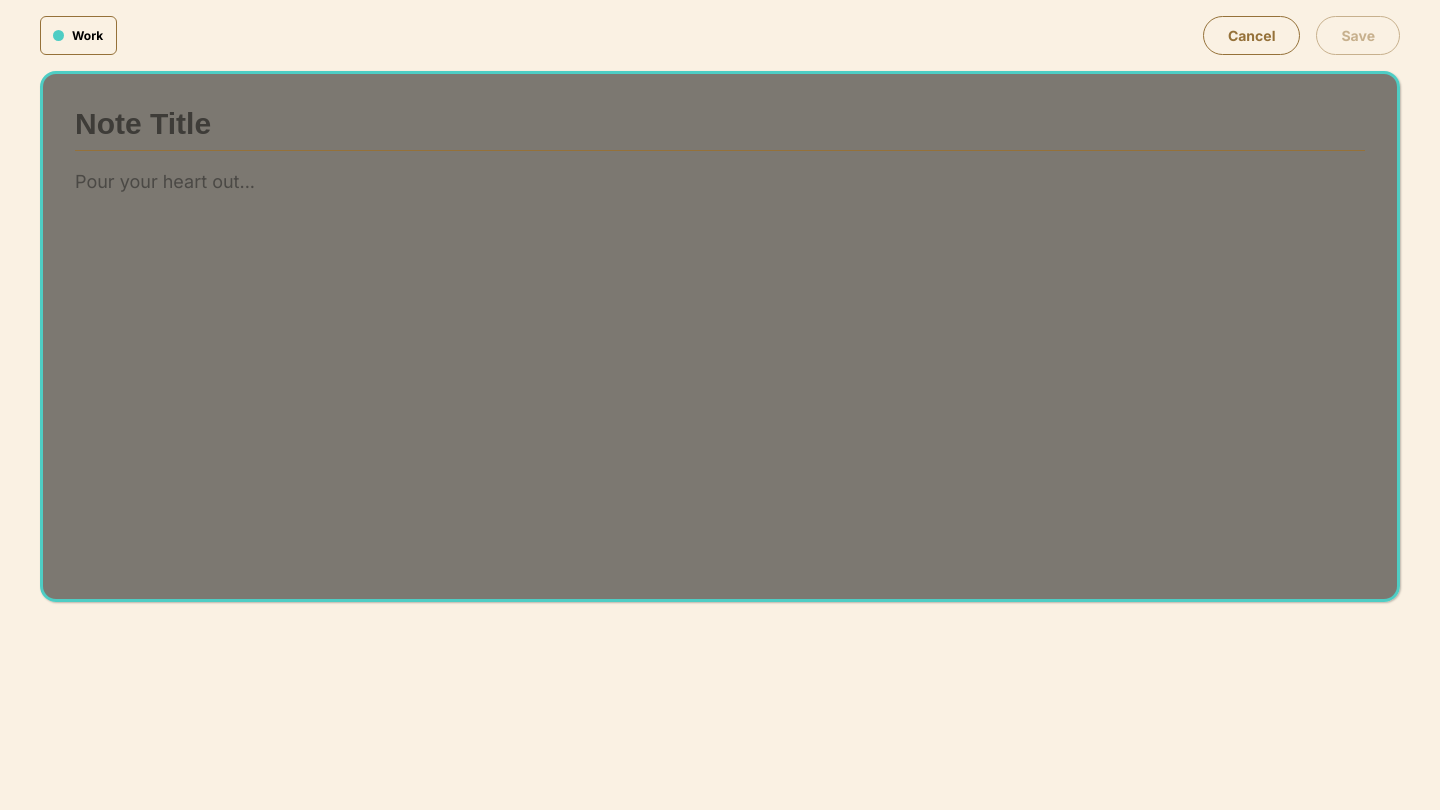
NewNotePage › shows an error message when createNote fails
Type "My Note" into the field with placeholder "Note Title" at x=720, y=128, box [75, 106, 1365, 151]
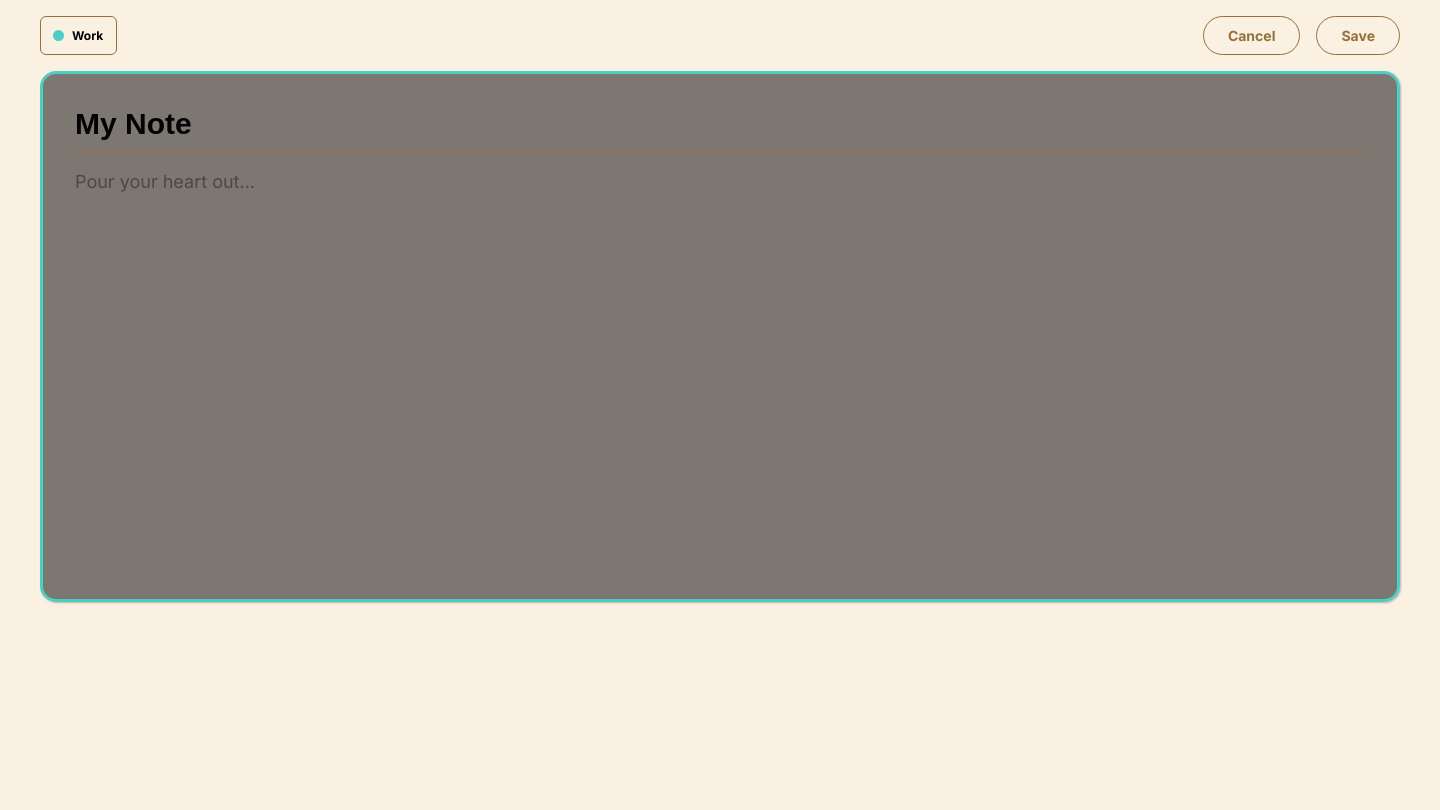
Click the button "Save" at x=1358, y=36, box [1316, 16, 1400, 55]
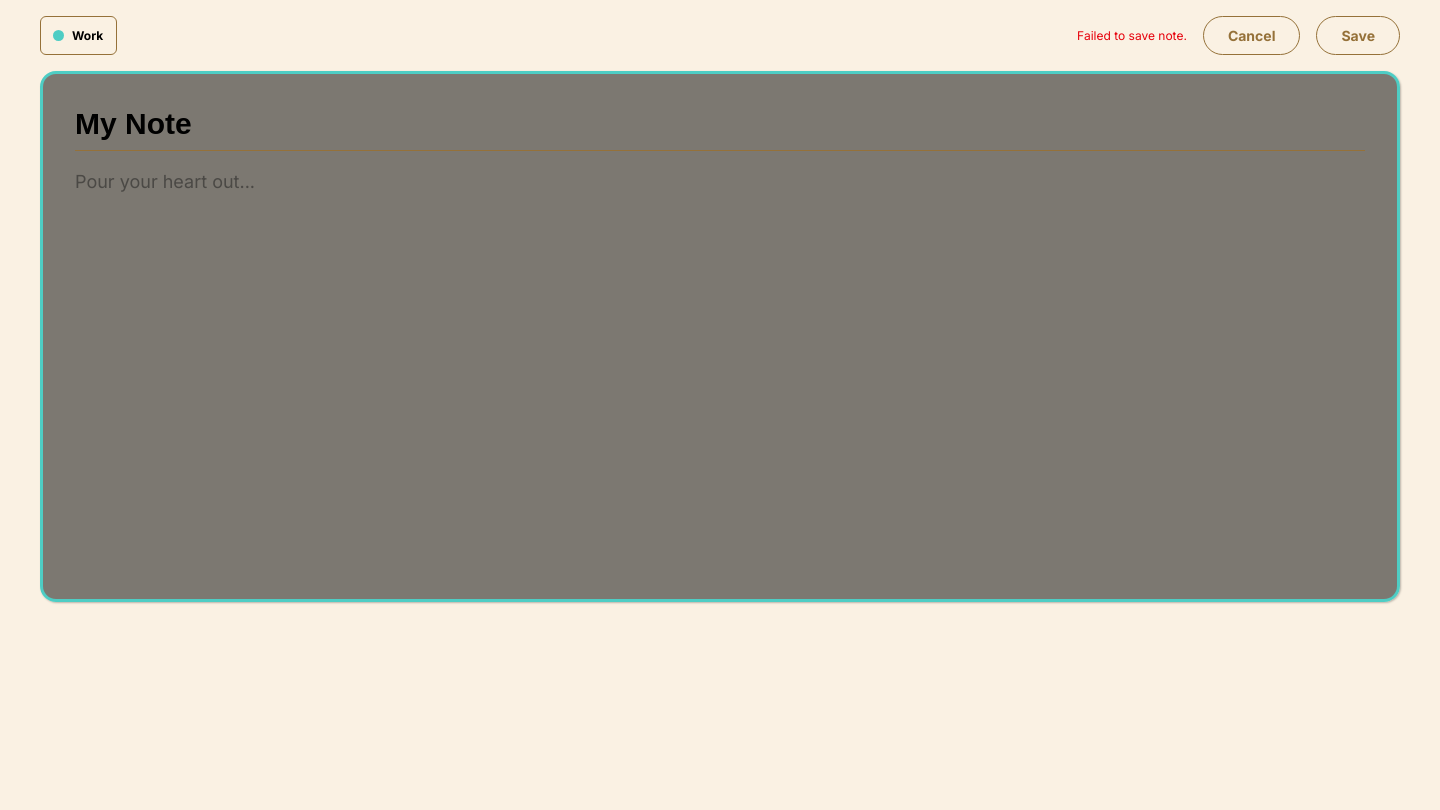
Now the text "Failed to save note." is shown, box [1077, 28, 1187, 44]
